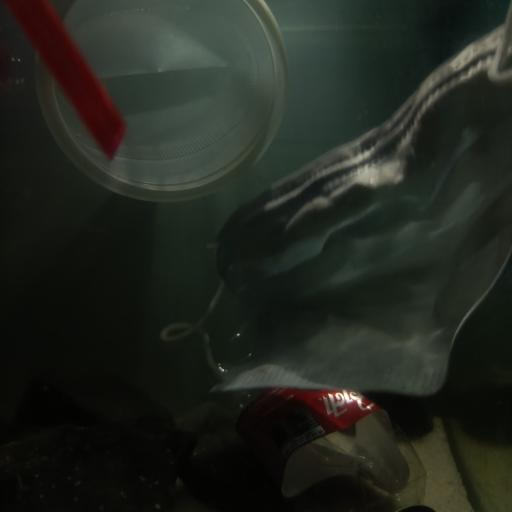mask: (168, 28, 512, 393)
plastic_bottle: (217, 362, 433, 512)
plastic_cup: (29, 0, 289, 202)
plastic_straw: (2, 0, 127, 161)
